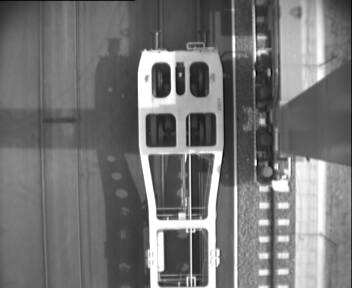wagon_scan: (149, 58, 213, 101)
